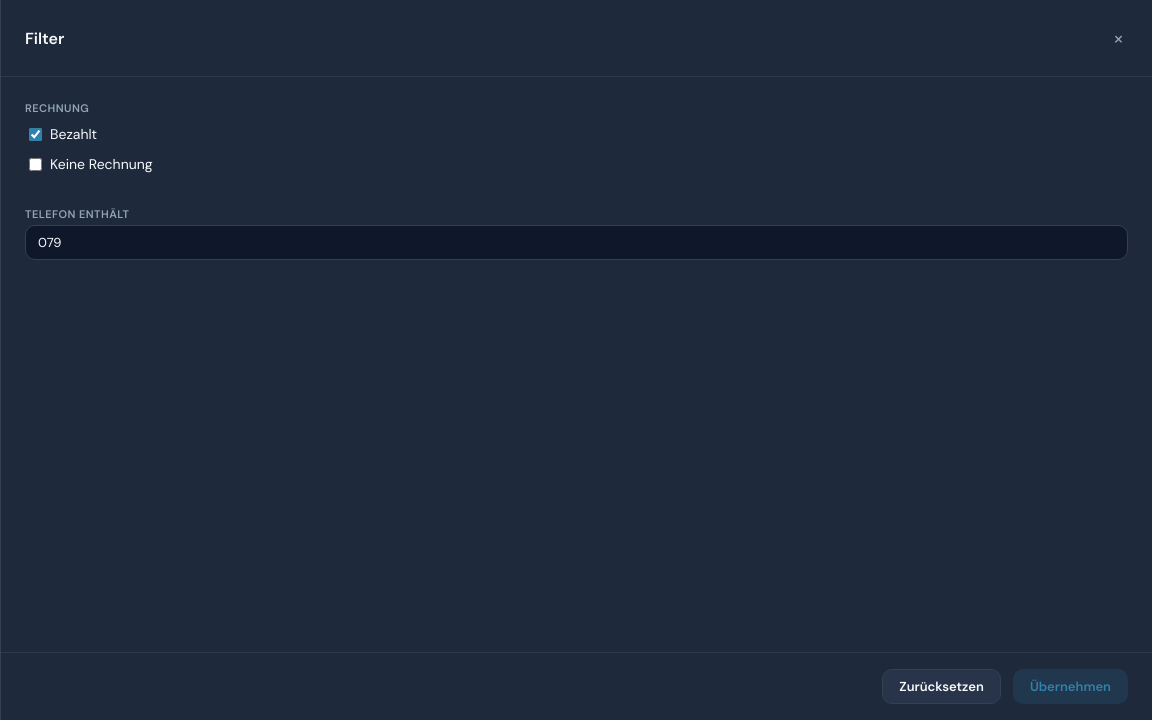
Test case: MobileFilterSheet › "Zurücksetzen" leert die Abschnitte, ohne zu schliessen
This screenshot has width=1152, height=720.
Click the button "Zurücksetzen" at (942, 686), box top-left (882, 669), bottom-right (1001, 704)
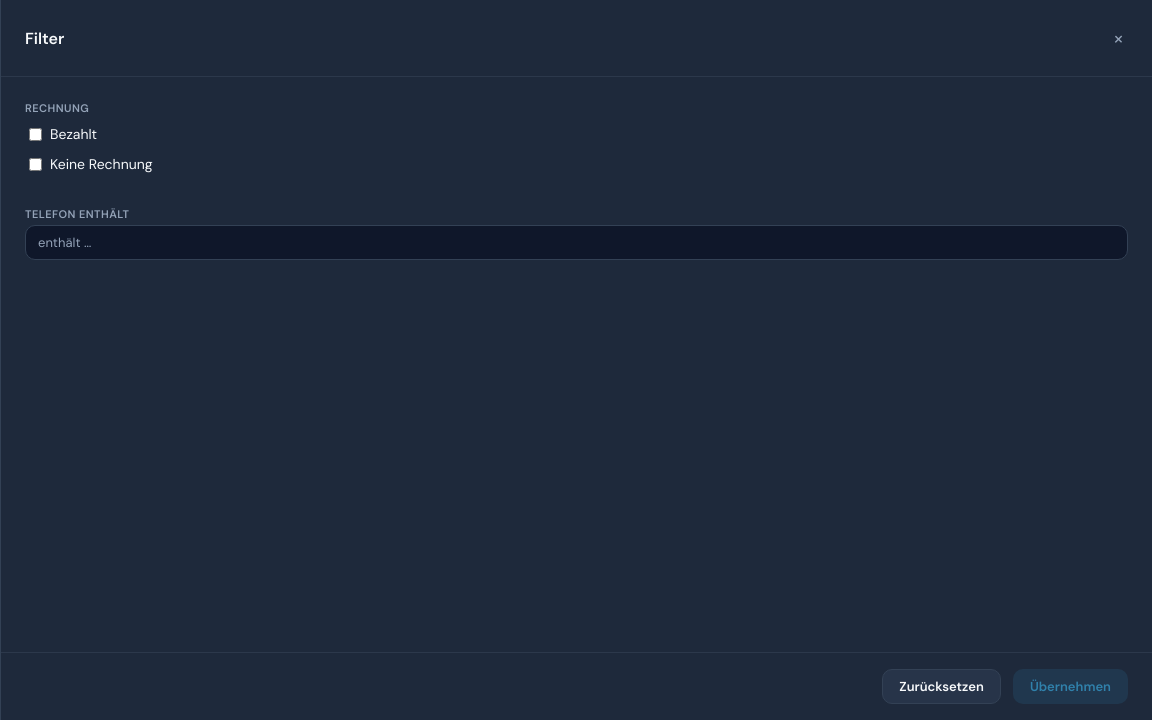
Expected: the field named "Telefon enthält" is empty, top-left (25, 225), bottom-right (1128, 260)
Expected: the checkbox labelled "Bezahlt" is not checked, top-left (29, 128), bottom-right (42, 140)
